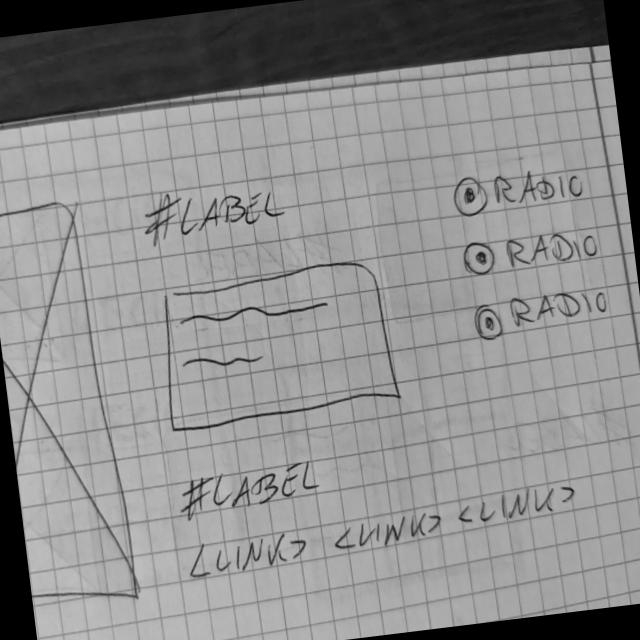image: (0, 197, 142, 612)
label: (138, 175, 288, 247), (176, 457, 322, 522)
link: (184, 528, 312, 582), (452, 480, 578, 530), (328, 506, 445, 556)
radio: (469, 282, 612, 344), (450, 160, 586, 220), (458, 223, 601, 280)
textarea: (150, 254, 404, 437)
